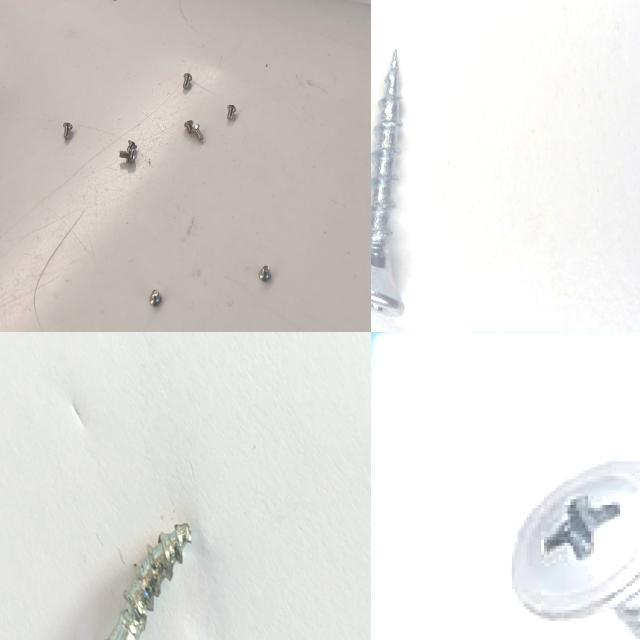Screw: (512, 459, 640, 640), (104, 523, 191, 640), (371, 49, 404, 316), (190, 122, 206, 146), (146, 287, 164, 308), (60, 120, 74, 142), (255, 264, 272, 282), (117, 149, 137, 164), (180, 71, 193, 90), (225, 103, 238, 122), (183, 118, 194, 136), (125, 138, 138, 152)
